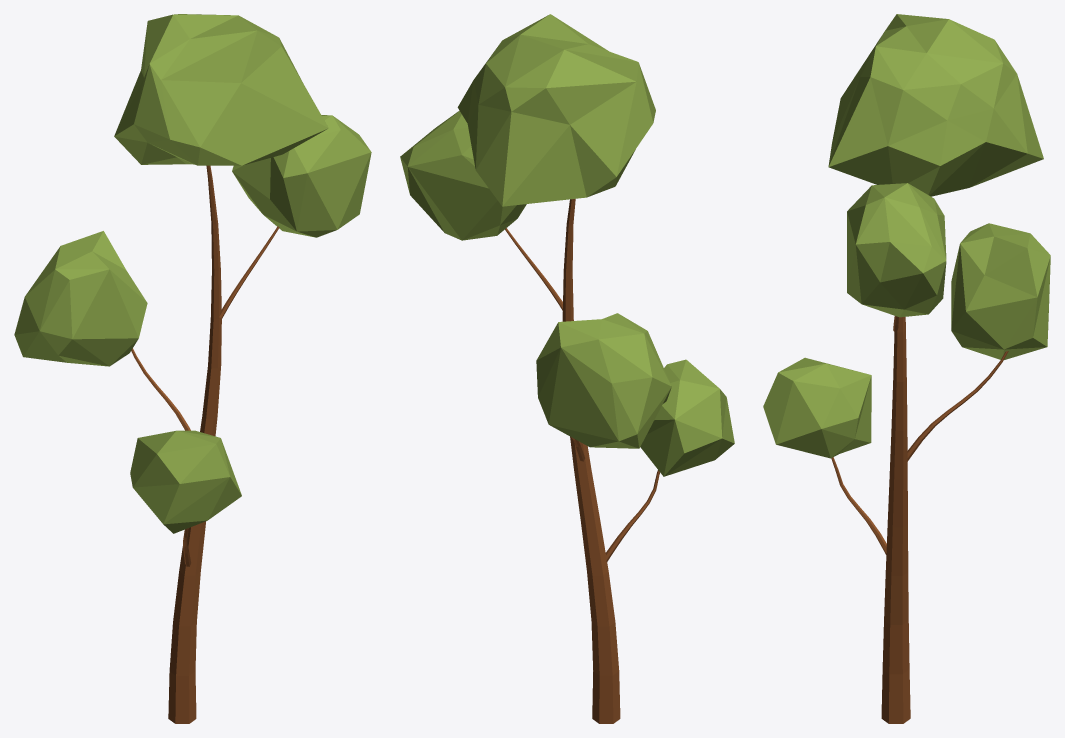
Rendered from Drzewo8.fbx.
3 renders of one model, left to right at view 1: azimuth 30°, elevation 25°; view 2: azimuth 150°, elevation 25°; view 3: azimuth 270°, elevation 25°, orthographic. The views are drawn at different scales.
Visible parts, largest first — view 1: Cylinder.020; view 2: Cylinder.020; view 3: Cylinder.020.
Part boxes in pixels (x1=…): Cylinder.020: x1=14, y1=14, x2=371, y2=723; Cylinder.020: x1=400, y1=14, x2=734, y2=723; Cylinder.020: x1=763, y1=14, x2=1050, y2=723.
Bounding box in the file's own units: 1438 × 3159 × 1164.
